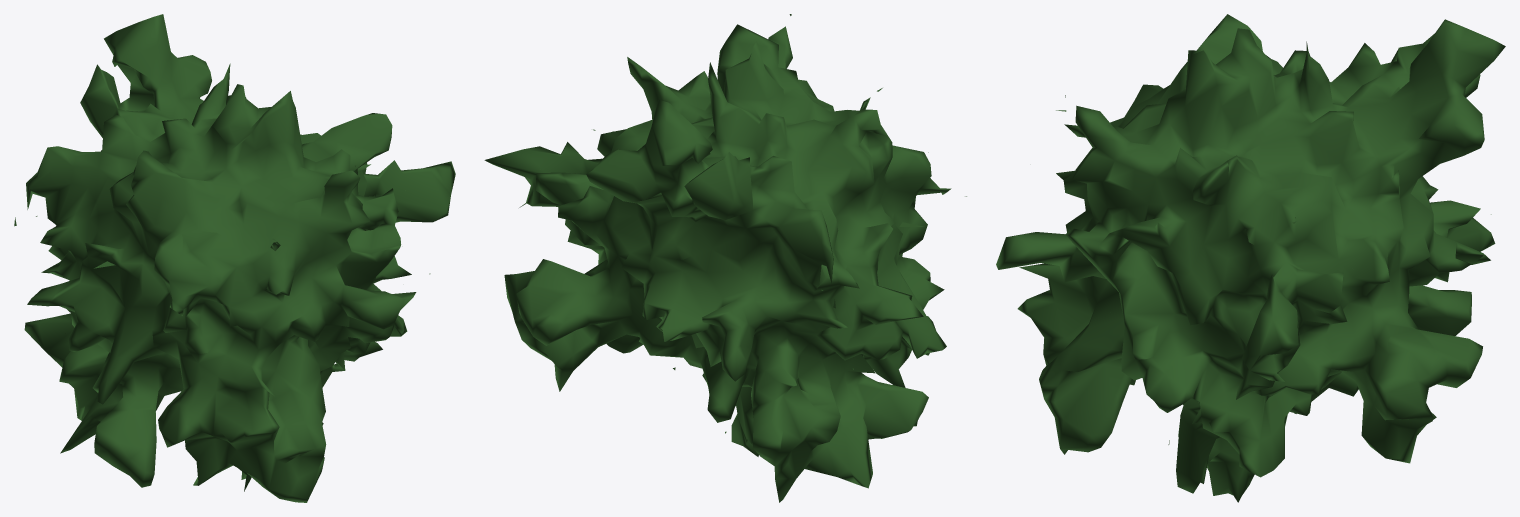
File: bacteria_disease.glb
3 views of the same model, side by side, from view 1: azimuth 30°, elevation 25°; view 2: azimuth 150°, elevation 25°; view 3: azimuth 270°, elevation 25° (orthographic). The views are drawn at different scales.
Visible parts, largest first — view 1: Icosphere; view 2: Icosphere; view 3: Icosphere.
Boxes of the visible parts, x1=… form: Icosphere: x1=14, y1=14, x2=455, y2=502; Icosphere: x1=484, y1=14, x2=966, y2=502; Icosphere: x1=996, y1=14, x2=1505, y2=502.
Bounding box in the file's own units: 2.52 × 2.31 × 2.22.
